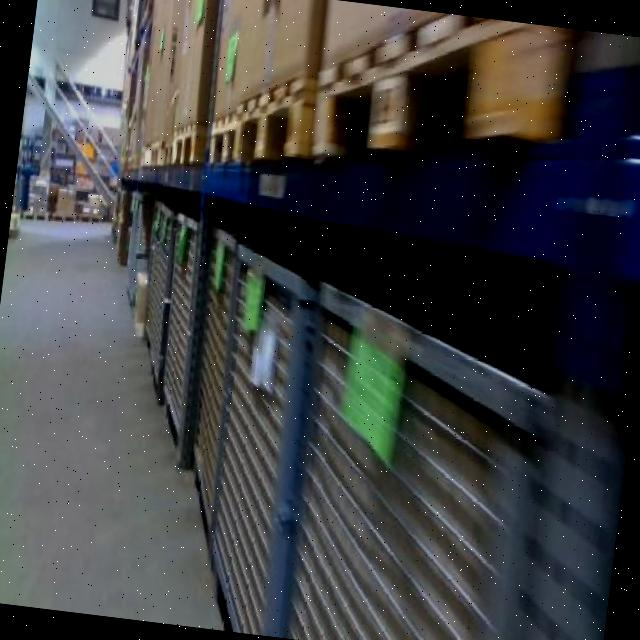pallet: (301, 11, 601, 178), (201, 53, 325, 174), (166, 115, 207, 173), (11, 202, 54, 228), (48, 206, 82, 228), (74, 206, 108, 227)
